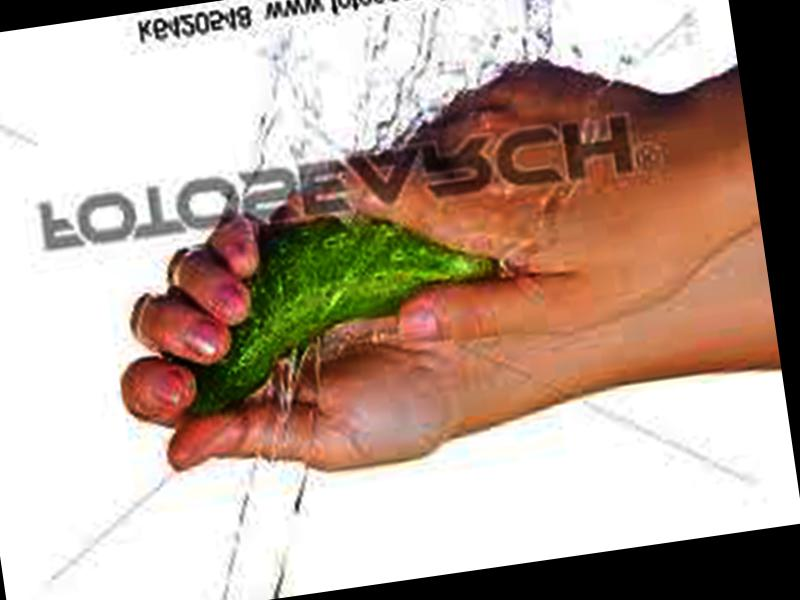Cucumber: (160, 188, 521, 418)
